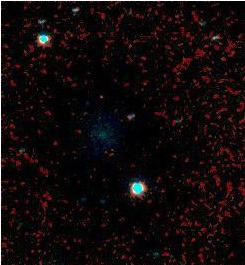star: (85, 79, 115, 109)
